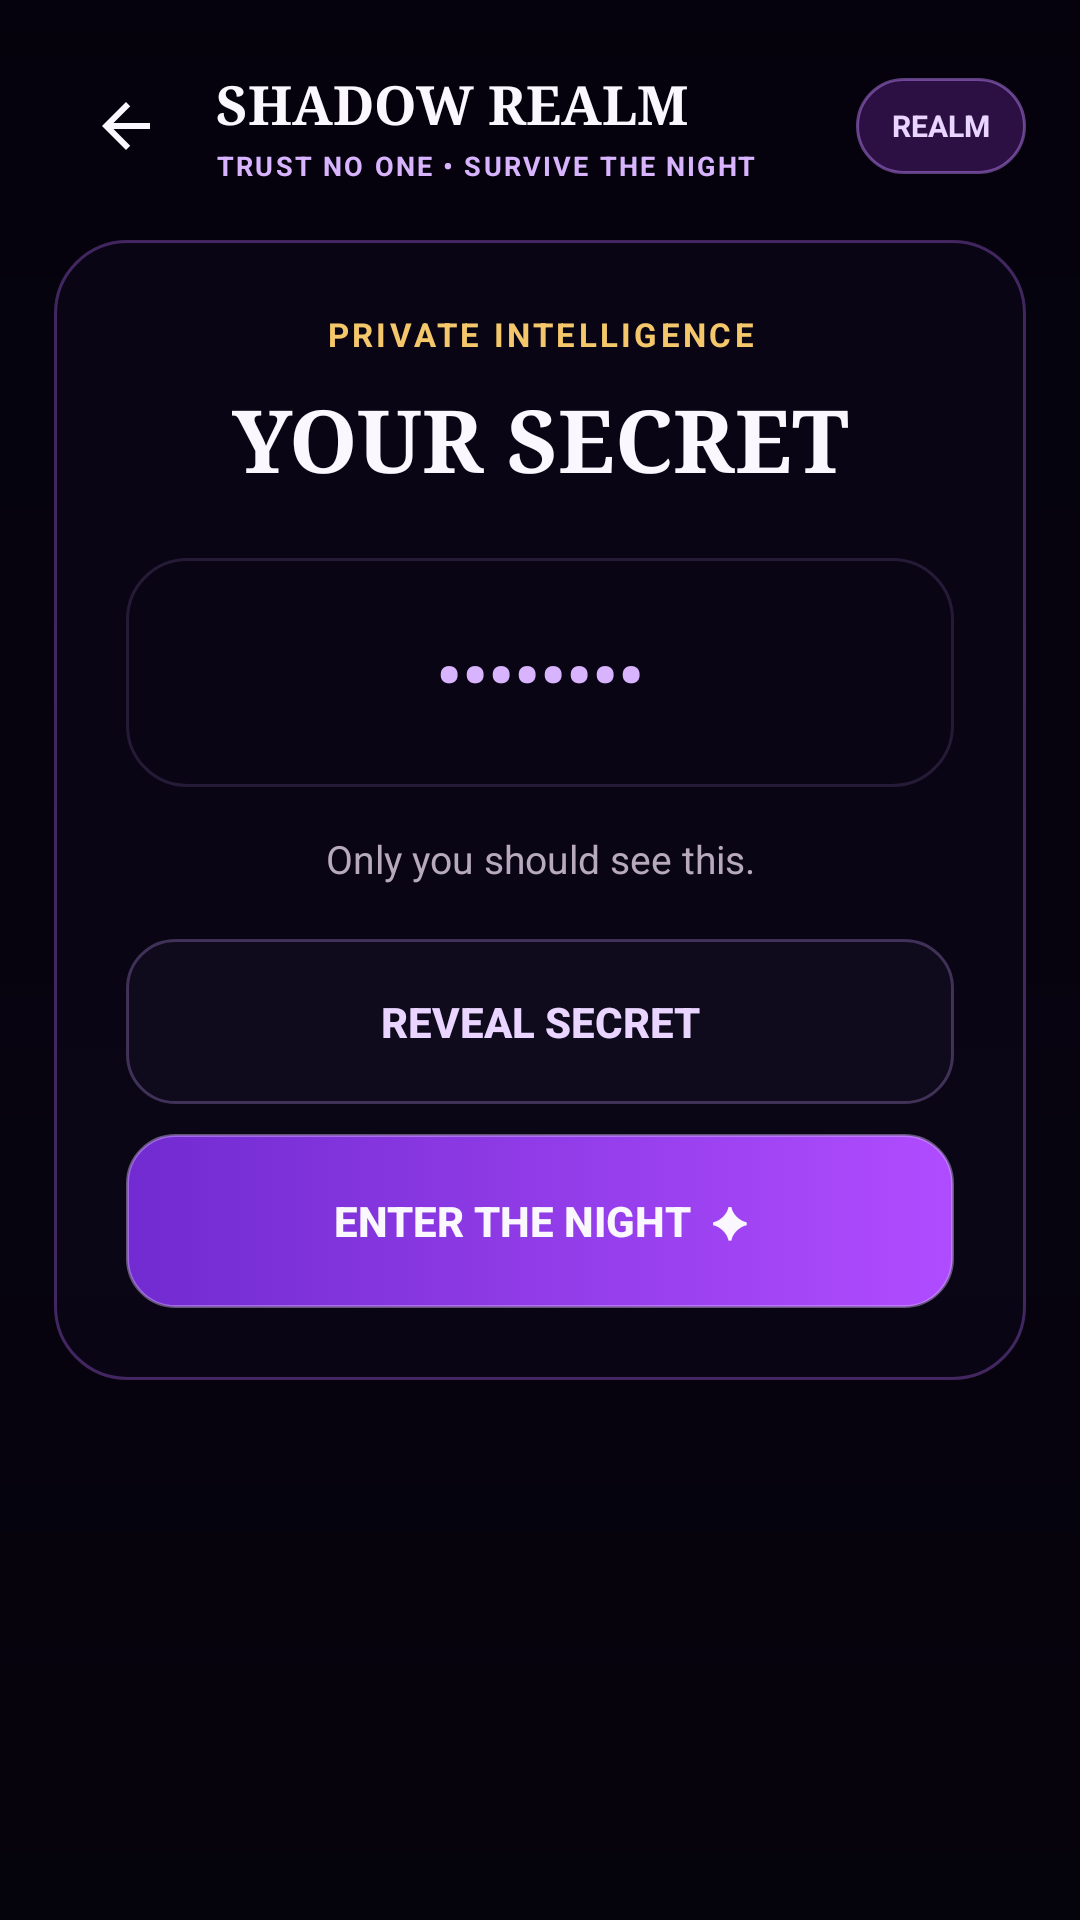

Screen size 1080px x 1920px. Icon name, then its box in pixels as (x1,y1,x2,y2):
Back: (102,102,150,150)
